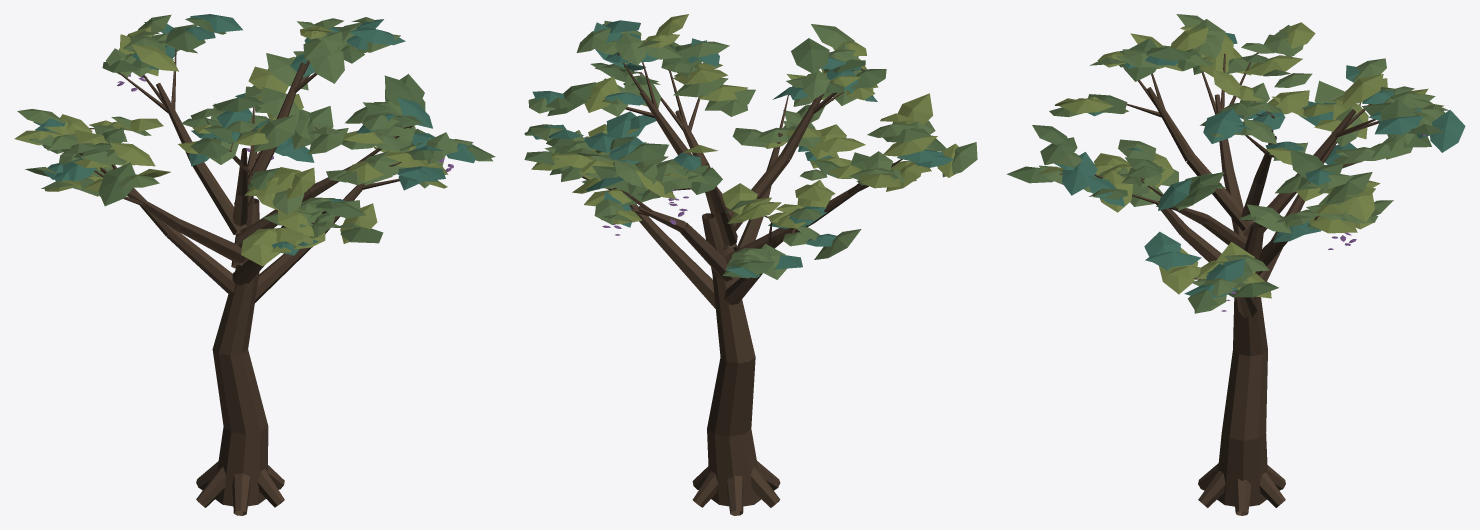
The model's file is border_tree_a.glb.
The picture shows the model from 3 angles, left to right: view 1: azimuth 30°, elevation 25°; view 2: azimuth 150°, elevation 25°; view 3: azimuth 270°, elevation 25°; orthographic projection.
Parts seen in each view (by area): view 1: border_tree_a; view 2: border_tree_a; view 3: border_tree_a.
Part boxes in pixels (x1,y1,x2,y2): border_tree_a: [14, 14, 495, 515]; border_tree_a: [524, 14, 977, 515]; border_tree_a: [1007, 14, 1465, 515].
Size of the model in its own units: 5.51 by 5.39 by 4.88.
